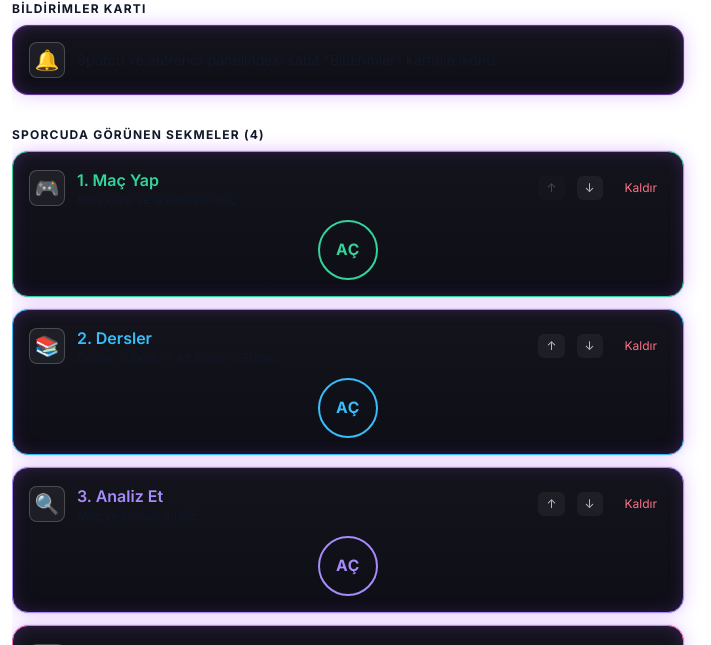
Test: Admin Sekmeler — akordiyon › Analiz Et kartı açılınca 3 özellik aç/kapa onay kutusu görünür (madde 2026-09-05 (3))
What coordinates should you click on to do the following:
click the button with aria-label "Analiz Et sekmesini aç"
I would click on:
 (348, 566)
Its box is x1=318 y1=536 x2=378 y2=596.
(page scrolled)
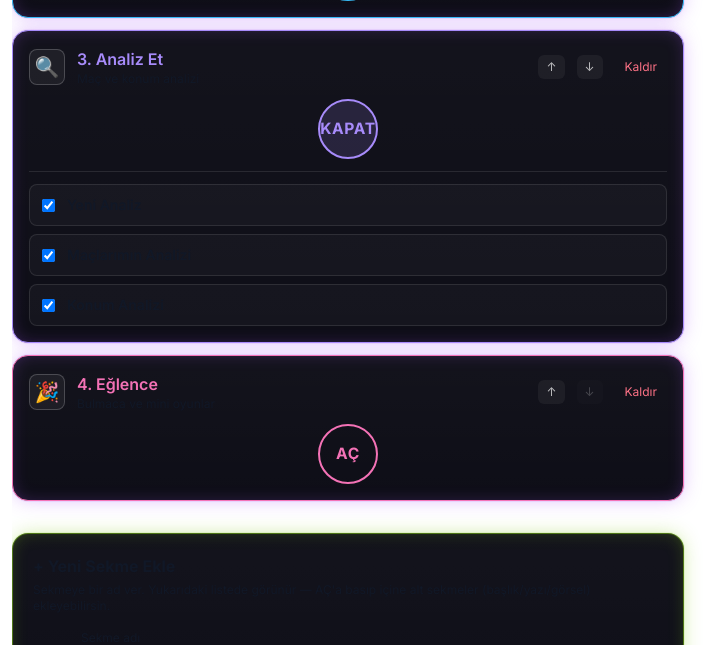
Result: the number of checkboxes is 3 at x1=42 y1=198 x2=55 y2=212; x1=42 y1=248 x2=55 y2=262; x1=42 y1=298 x2=55 y2=312
Result: the checkbox labelled "Yeni Analiz" is checked at x1=42 y1=198 x2=55 y2=212
Result: the checkbox labelled "Maçlarımın Analizi" is checked at x1=42 y1=248 x2=55 y2=262
